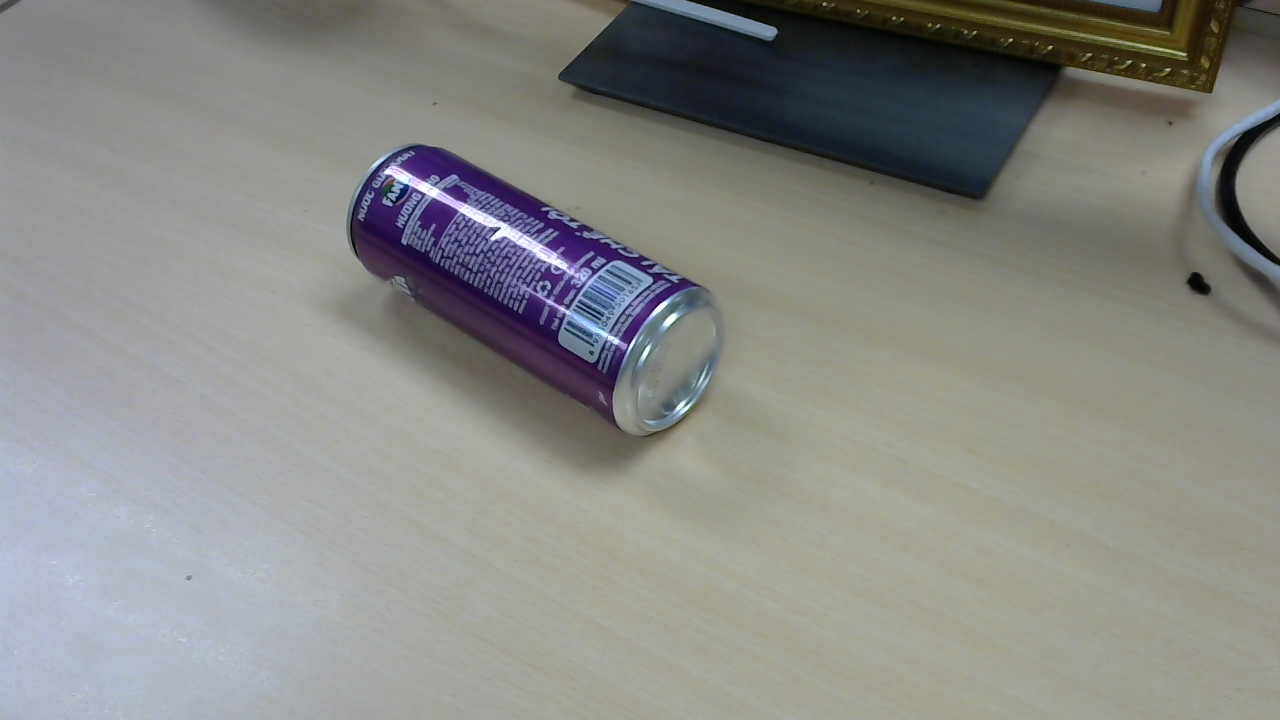Fanta: (351, 148, 727, 445)
